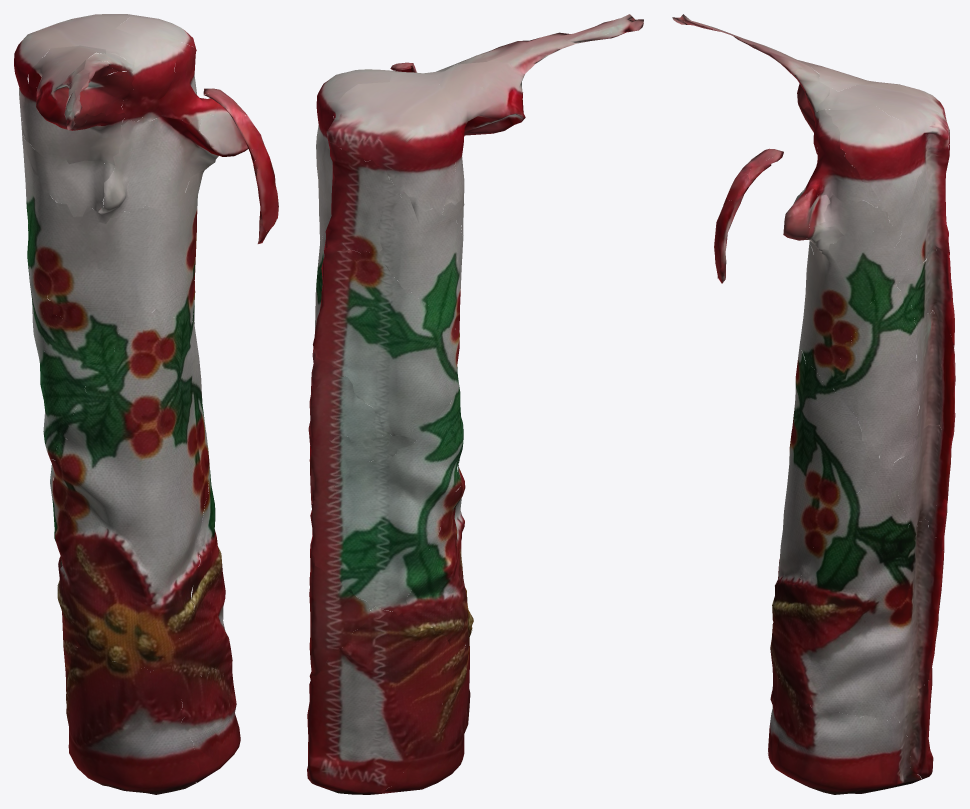
The model's file is Neverafinal.glb.
3 views of the same model, side by side, from view 1: azimuth 30°, elevation 25°; view 2: azimuth 150°, elevation 25°; view 3: azimuth 270°, elevation 25° (orthographic). The views are drawn at different scales.
Parts seen in each view (by area): view 1: Mesh_0.002; view 2: Mesh_0.002; view 3: Mesh_0.002.
Boxes of the visible parts, x1,y1,x2,y2 form: Mesh_0.002: (14,14,278,794); Mesh_0.002: (307,14,643,794); Mesh_0.002: (672,14,955,794).
Bounding box in the file's own units: 0.2135 × 0.6264 × 0.2326.
Materials: 1 (1 with a texture image).
